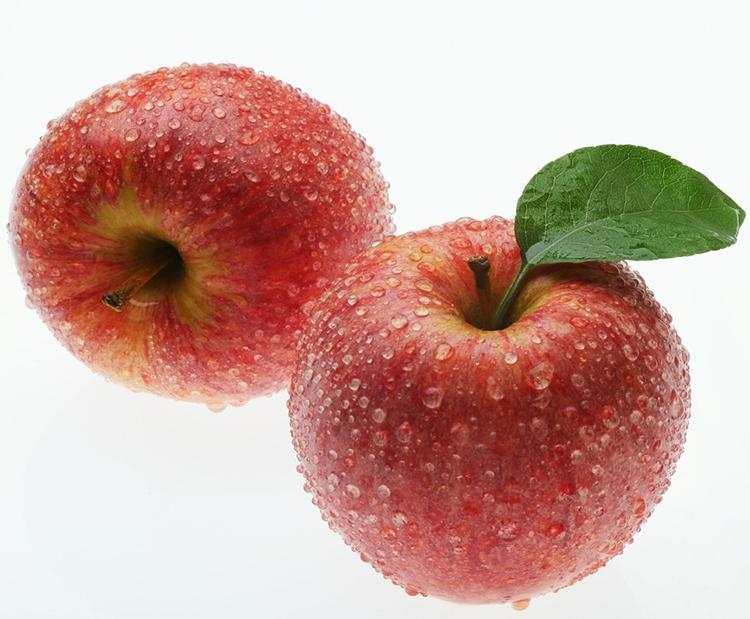apple: (279, 211, 696, 609), (7, 67, 403, 418)
